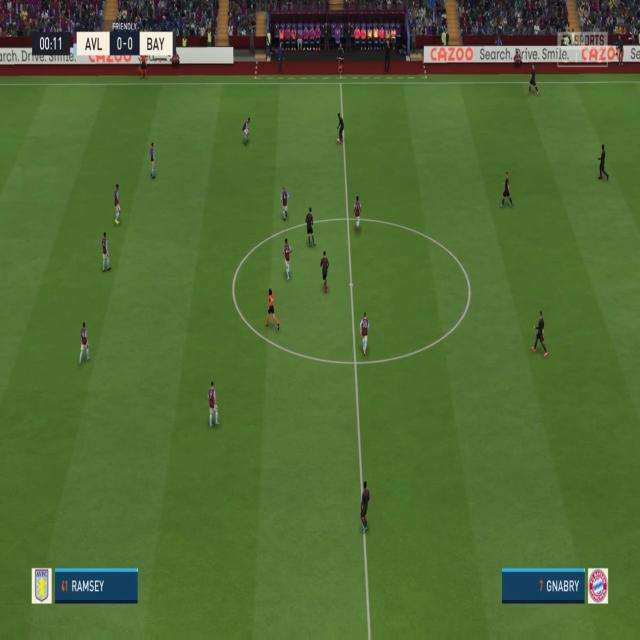Ball: (336, 138, 339, 144)
Referee: (264, 288, 279, 332)
Team-A: (534, 312, 549, 356), (361, 480, 370, 536), (500, 172, 513, 209), (528, 65, 542, 97), (318, 252, 329, 292), (596, 145, 608, 180), (306, 211, 316, 249), (336, 112, 345, 143)
Team-H: (77, 322, 90, 367), (208, 382, 220, 429), (100, 232, 112, 273), (283, 238, 294, 280), (361, 314, 372, 356), (114, 184, 124, 225), (352, 196, 362, 233), (150, 143, 159, 180), (243, 118, 253, 148), (280, 188, 289, 220)
